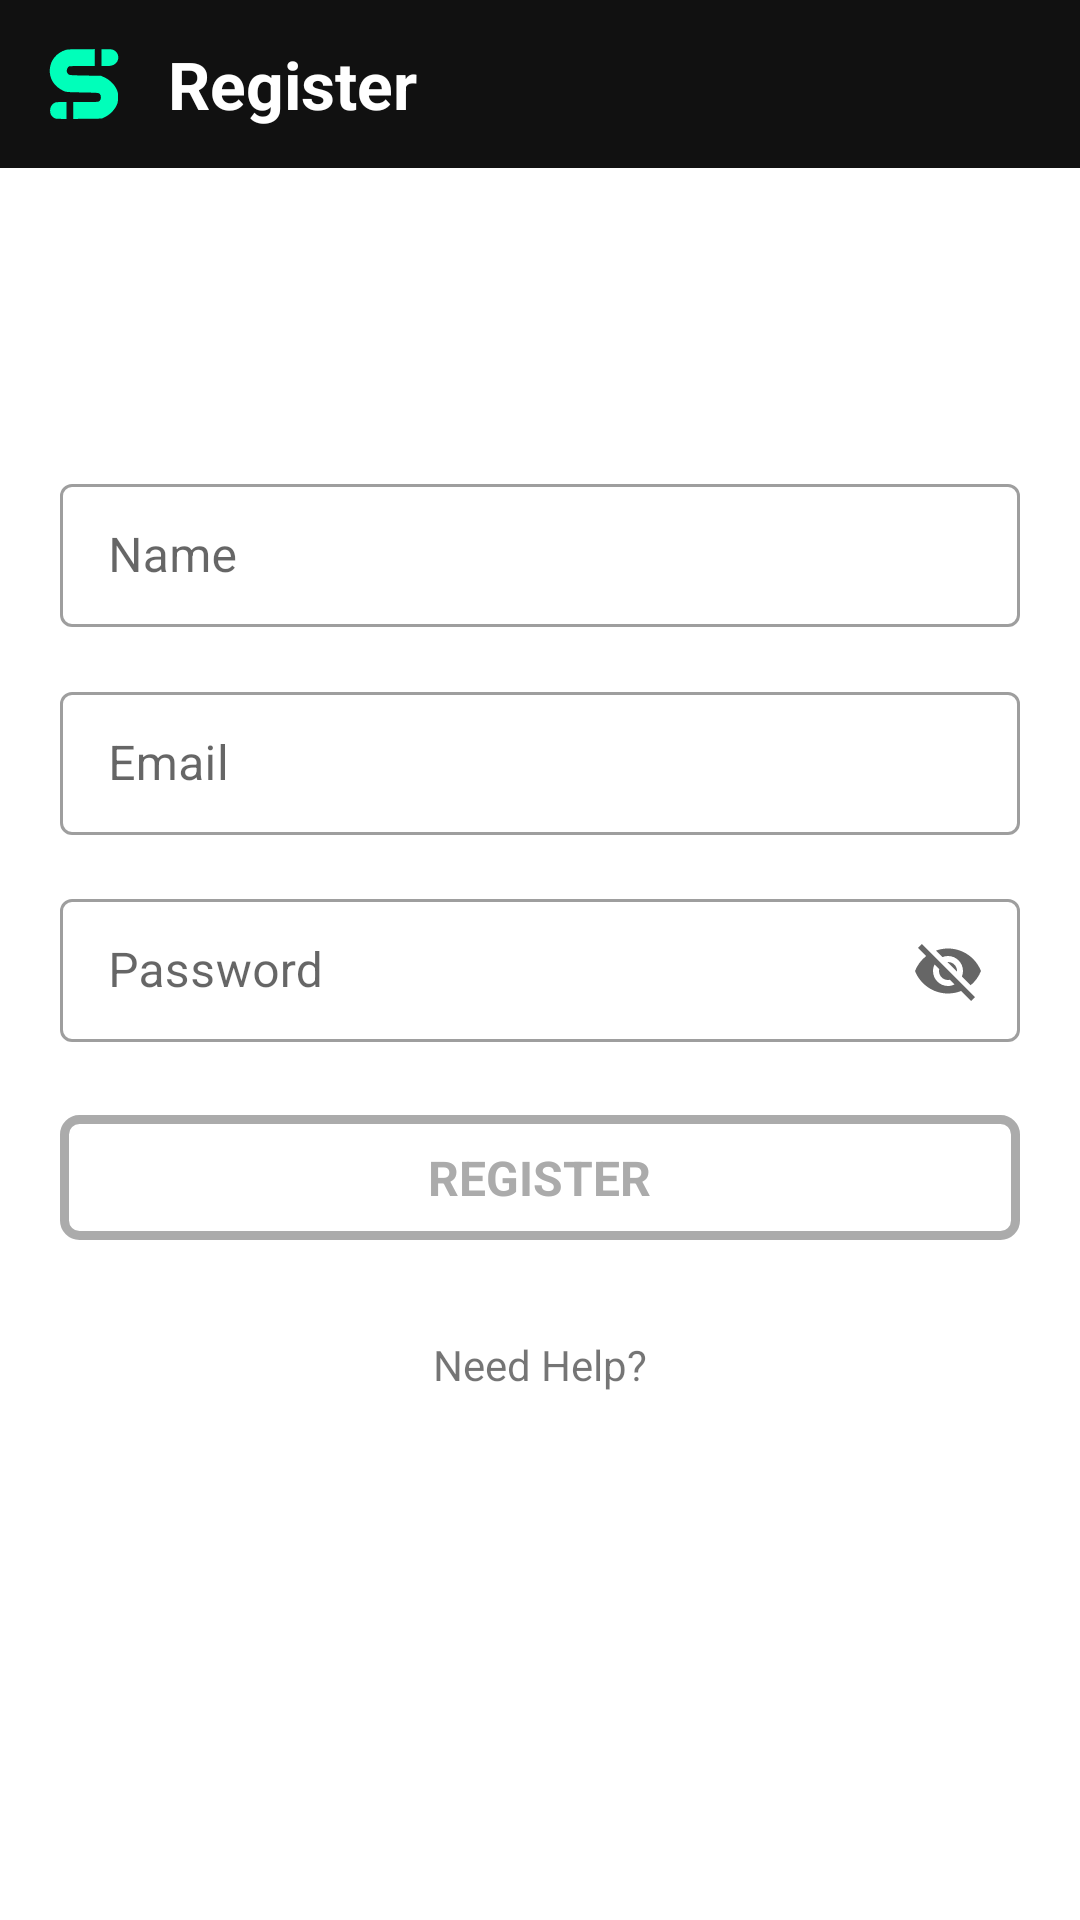

Icons on this 1080*1920 Android screen, each with its box as detection(x1, y1, x2, y2):
appicon: detection(49, 49, 119, 119)
